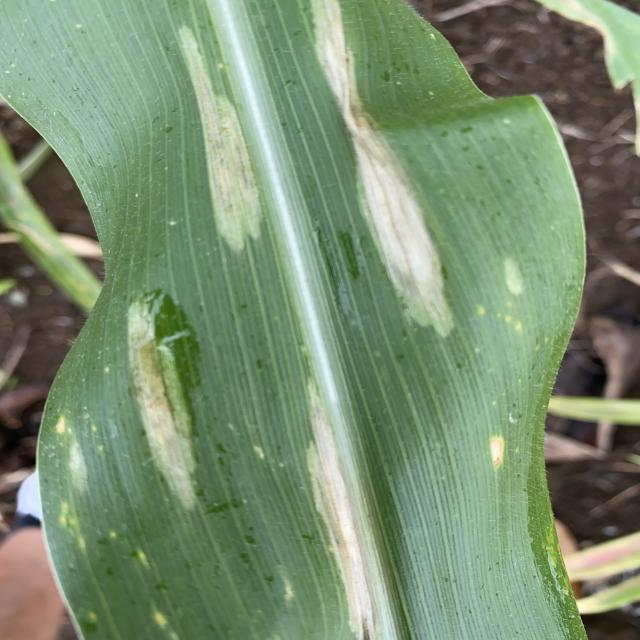Corn_Leaf_Blight: (4, 4, 586, 640)
